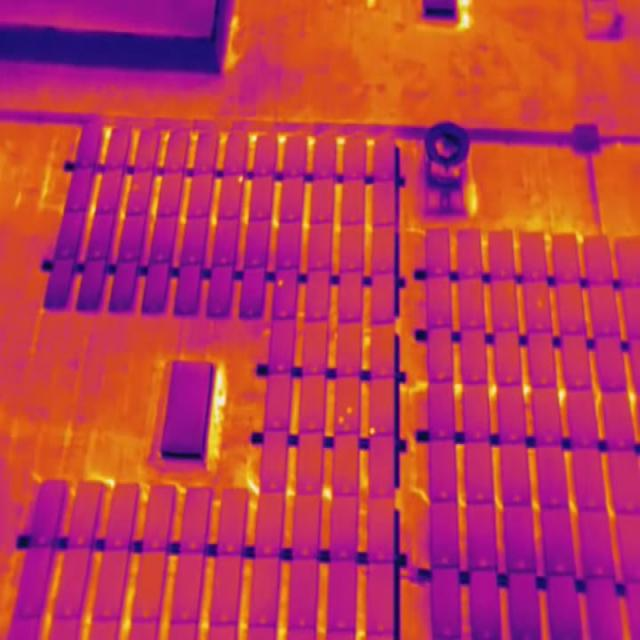Orange-Spots: (338, 416, 345, 424), (370, 426, 376, 434), (278, 279, 284, 287), (347, 406, 352, 414), (238, 175, 243, 183)
